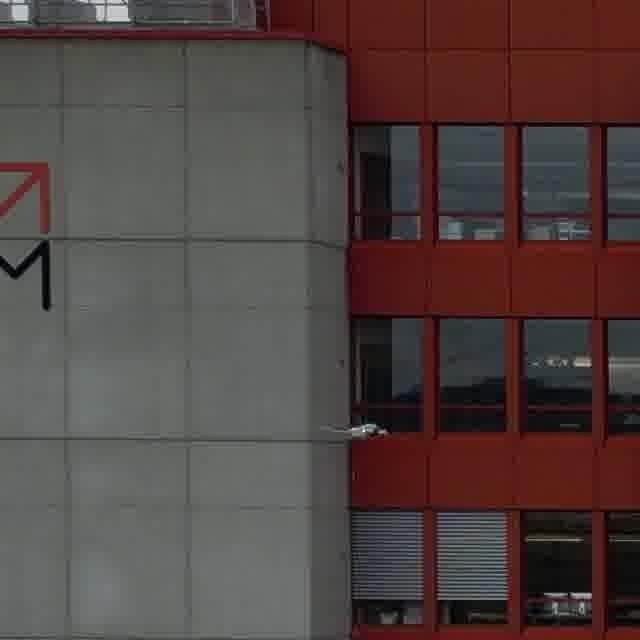Drohne: (324, 422, 389, 439)
